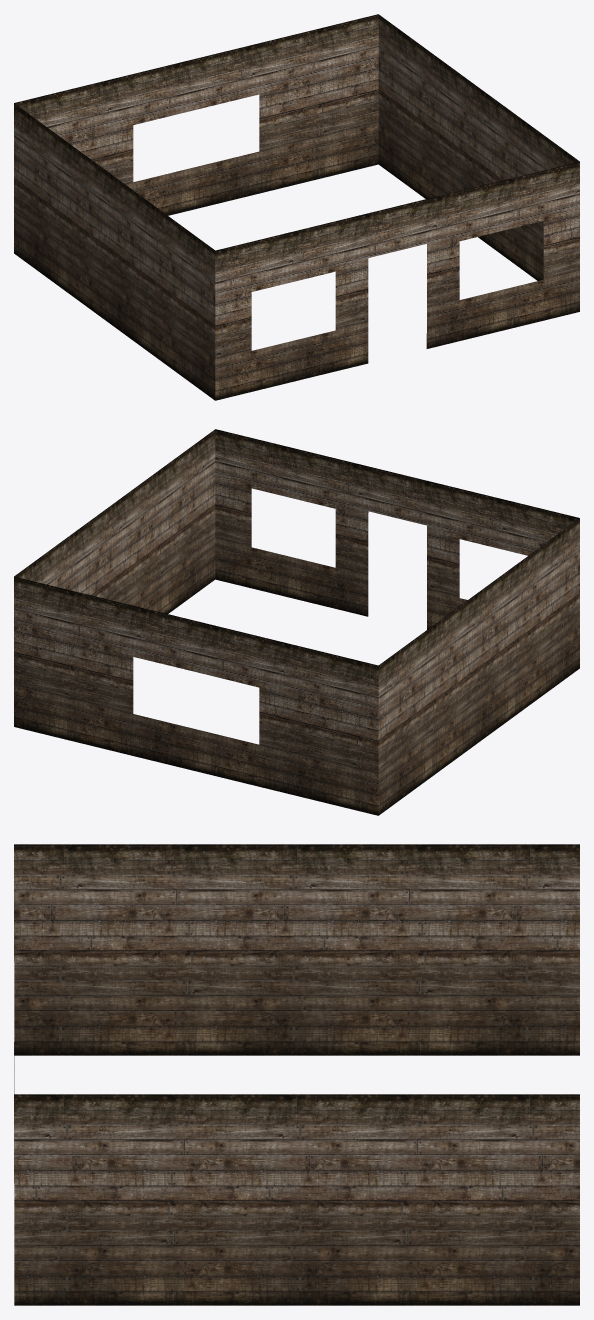
File: cabinWallsExterior_01_LOD2.FBX
3 renders of one model, top to bottom at view 1: azimuth 30°, elevation 25°; view 2: azimuth 150°, elevation 25°; view 3: azimuth 270°, elevation 25°, orthographic. The views are drawn at different scales.
Visible parts, largest first — view 1: cabinWallsExterior_01_LOD2; view 2: cabinWallsExterior_01_LOD2; view 3: cabinWallsExterior_01_LOD2.
Part boxes in pixels (x1=…): cabinWallsExterior_01_LOD2: x1=14, y1=14, x2=579, y2=400; cabinWallsExterior_01_LOD2: x1=14, y1=429, x2=579, y2=815; cabinWallsExterior_01_LOD2: x1=14, y1=844, x2=579, y2=1305.
Size of the model in its own units: 42.05 by 16.58 by 40.25.
1 material, 1 textured.
